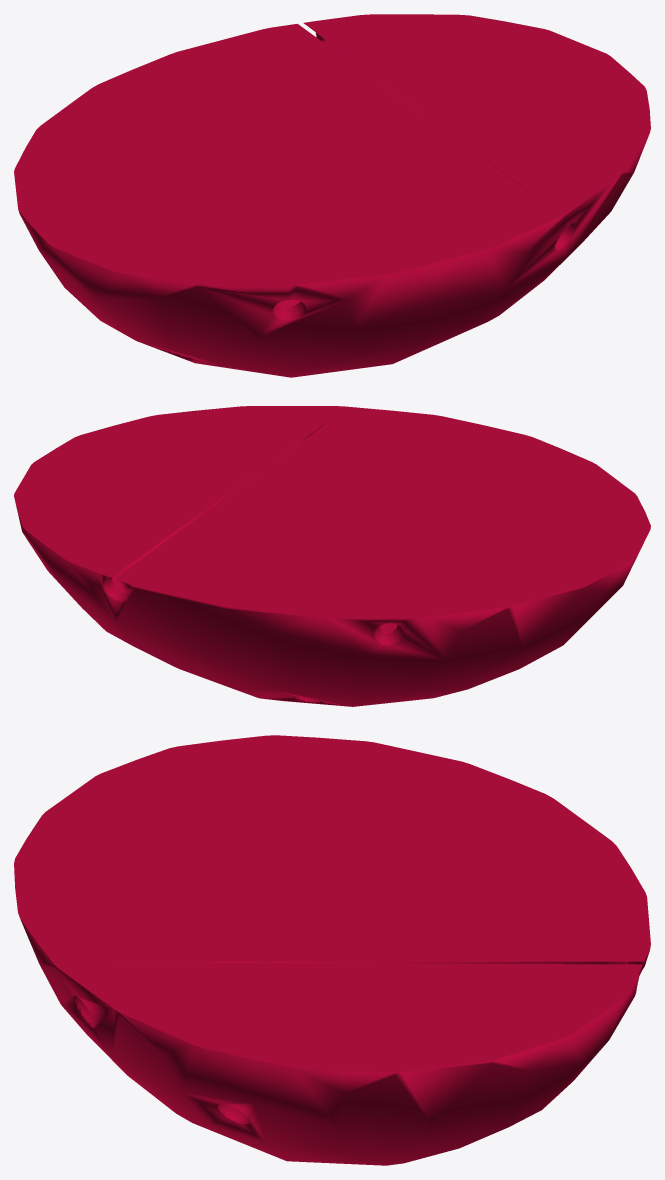
File: membrance.fbx
3 renders of one model, top to bottom at view 1: azimuth 30°, elevation 25°; view 2: azimuth 150°, elevation 25°; view 3: azimuth 270°, elevation 25°, orthographic. The views are drawn at different scales.
Parts seen in each view (by area): view 1: membrane; view 2: membrane; view 3: membrane.
Boxes of the visible parts, left/top/right/bottom form: membrane: left=14, top=14, right=650, bottom=377; membrane: left=14, top=406, right=650, bottom=706; membrane: left=14, top=735, right=650, bottom=1165.
Bounding box in the file's own units: 14283 × 4308 × 11407.
